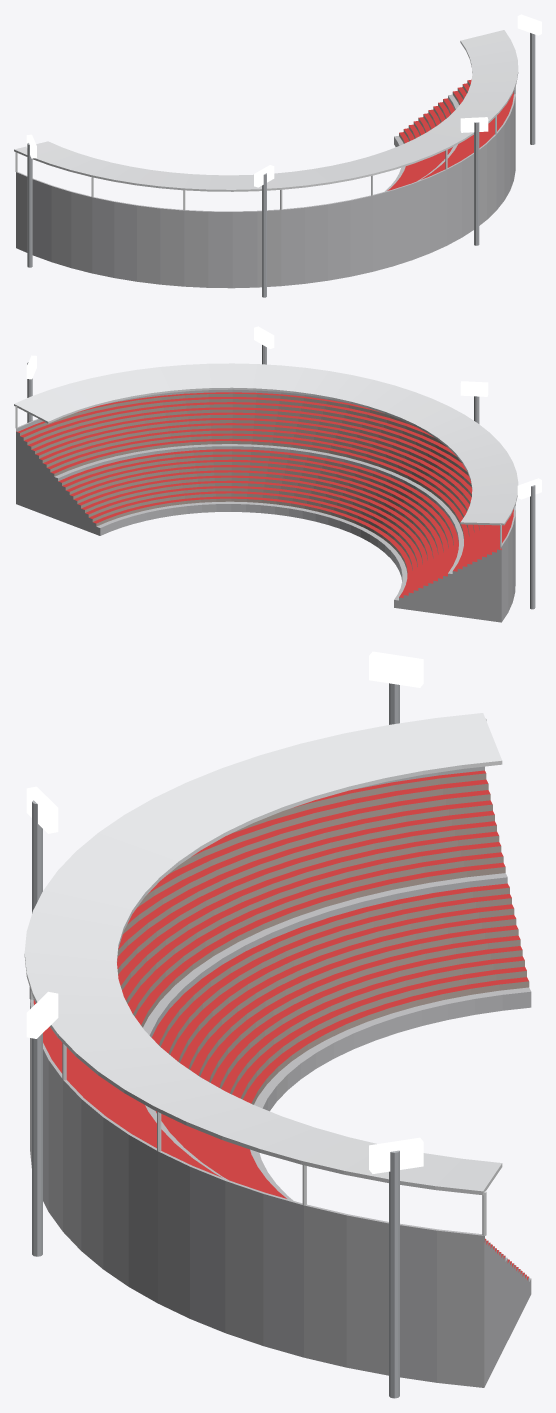
Rendered from foro_sol.glb.
The picture shows the model from 3 angles, top to bottom: view 1: azimuth 30°, elevation 25°; view 2: azimuth 150°, elevation 25°; view 3: azimuth 270°, elevation 25°; orthographic projection. The views are drawn at different scales.
Parts seen in each view (by area): view 1: stands, canopy, lights; view 2: stands, canopy, lights; view 3: stands, canopy, lights.
Part boxes in pixels (x1,y1,x2,y2): stands: (16, 79, 515, 288); canopy: (14, 30, 518, 210); lights: (26, 14, 541, 297); stands: (16, 389, 515, 622); canopy: (14, 363, 518, 546); lights: (26, 326, 541, 609); stands: (30, 766, 531, 1387); canopy: (24, 713, 502, 1235); lights: (26, 651, 423, 1398).
Size of the model in its own units: 218 by 50.99 by 93.49.
